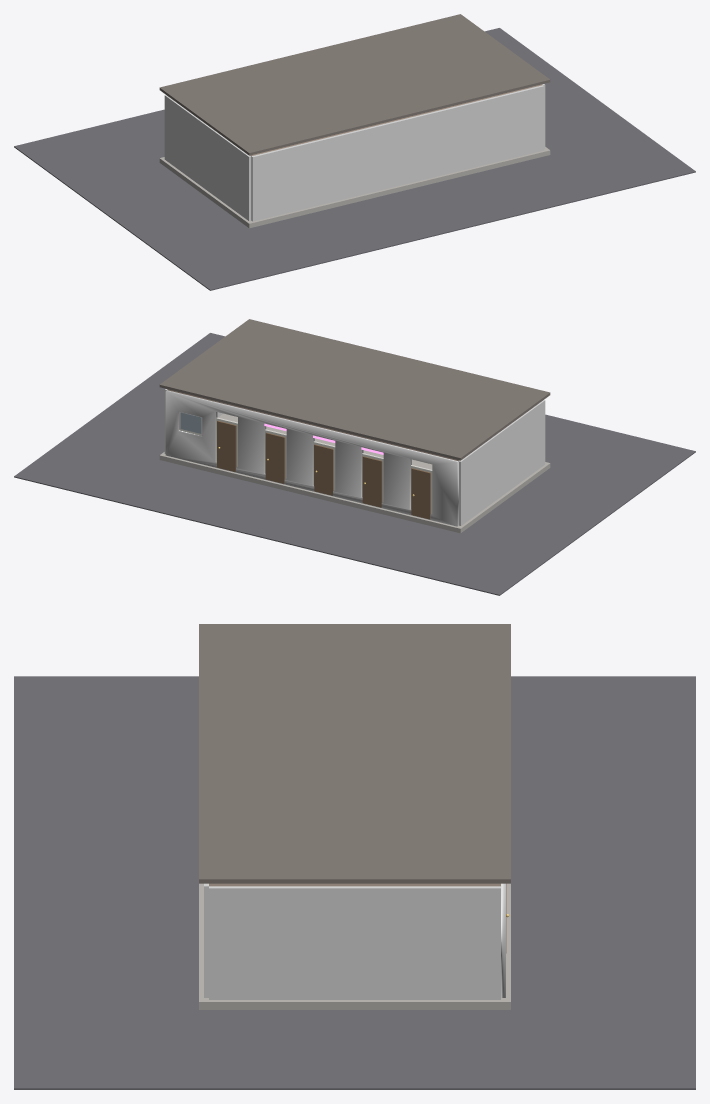
Rendered from motel.glb.
3 renders of one model, top to bottom at view 1: azimuth 30°, elevation 25°; view 2: azimuth 150°, elevation 25°; view 3: azimuth 270°, elevation 25°, orthographic. The views are drawn at different scales.
Parts seen in each view (by area): view 1: ground, roof, back_gf, left_gf, foundation, ceiling; view 2: ground, roof, front_gf, left_gf, panel (×5), foundation, ceiling, floor_gf, frame; view 3: ground, roof, right_gf, foundation, ceiling.
Part boxes in pixels (<box>): ground: <box>14,28,695,290</box>; roof: <box>159,14,550,155</box>; back_gf: <box>251,85,544,221</box>; left_gf: <box>164,95,251,220</box>; foundation: <box>159,147,550,228</box>; ceiling: <box>250,84,542,156</box>; ground: <box>14,333,695,595</box>; roof: <box>159,319,550,460</box>; front_gf: <box>165,390,458,526</box>; left_gf: <box>458,400,545,525</box>; panel (×5): <box>217,420,430,519</box>; foundation: <box>159,452,550,533</box>; ceiling: <box>167,389,459,461</box>; floor_gf: <box>218,413,432,469</box>; frame: <box>179,411,202,435</box>; ground: <box>14,676,695,1089</box>; roof: <box>199,624,510,883</box>; right_gf: <box>209,886,500,999</box>; foundation: <box>199,883,510,1009</box>; ceiling: <box>209,883,500,886</box>.
Size of the model in its own units: 20 by 3 by 14.
